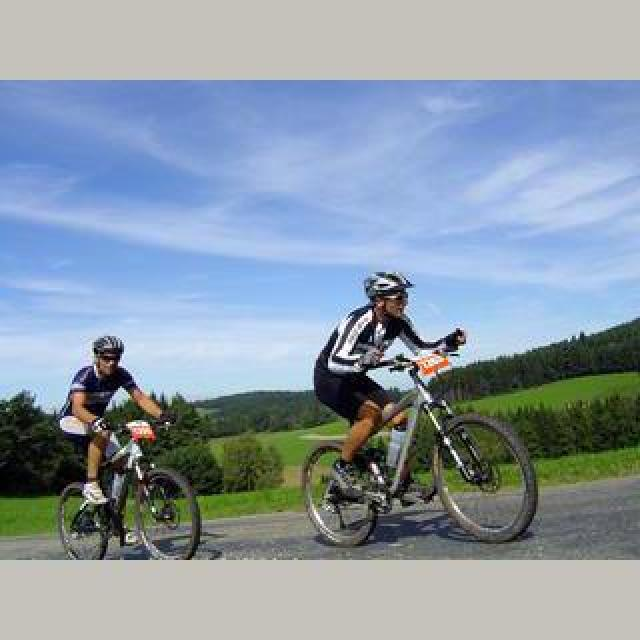MC-Bike: (314, 272, 468, 482), (60, 334, 170, 530)
Person: (298, 351, 536, 549), (54, 414, 202, 560)
